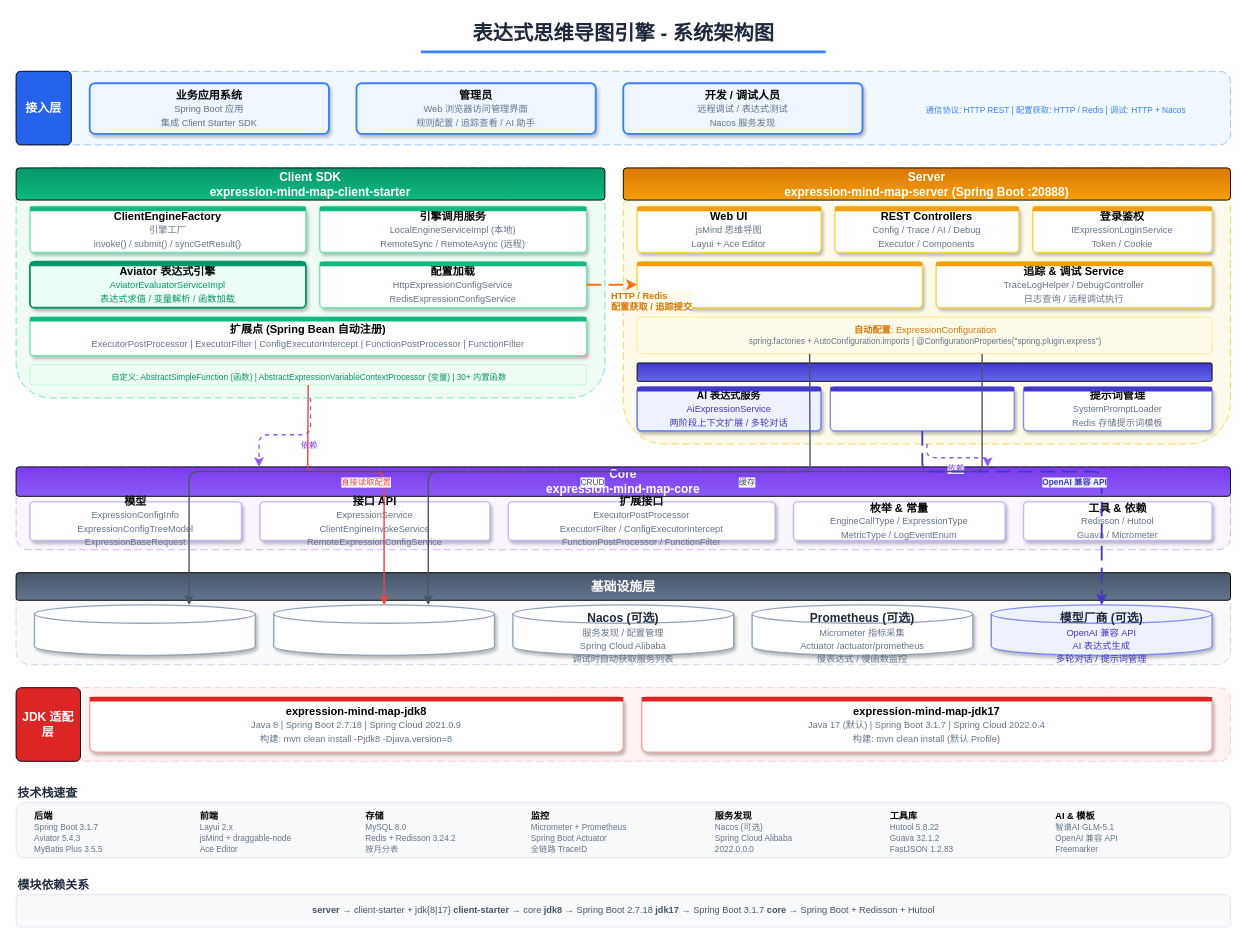
Some shapes in this 1247 by 943 pixel diagram are drawn without their labels. The centre of each missing label's shape, as x and y in pixels:
"AI 表达式助手 (智谱AI GLM)" goes at [924,371].
"LlmClient HTTP 通信客户端 OpenAI 兼容协议" goes at [923,410].
"MySQL MyBatis Plus 3.5.5 配置存储 / 追踪日志 (按月分表) 版本历史 / 用户认证" goes at [145,631].
"Redis Redisson 分布式锁 配置缓存 / 会话管理 客户端直接读取配置" goes at [384,631].
"配置管理 Service ExpressionExecutorConfigService 执行器 / 表达式树 CRUD / 版本管理" goes at [780,285].
